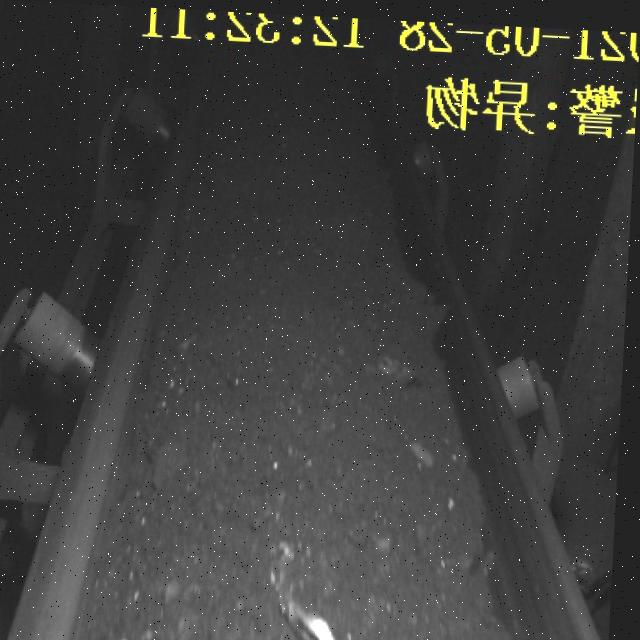bolt: (271, 567, 382, 640)
